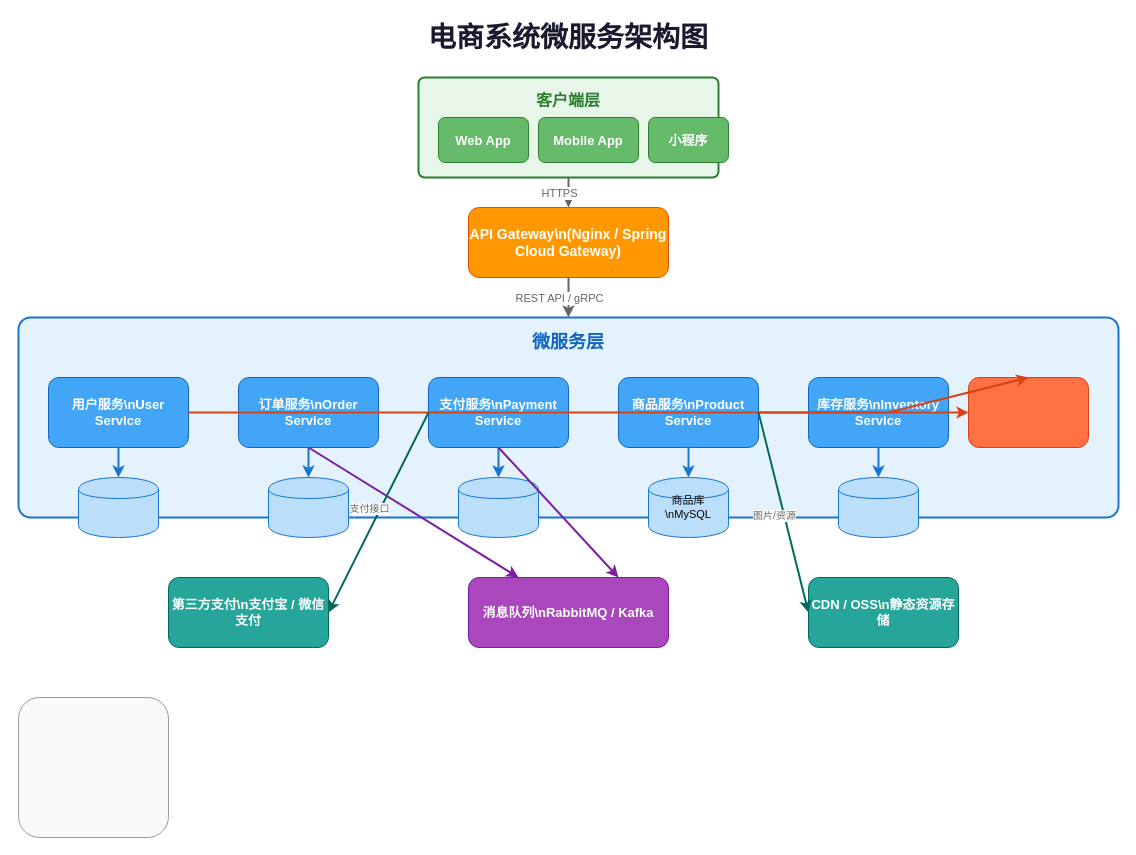
Some shapes in this 1136 by 855 pixel diagram are drawn without their labels. Here are the shapes that lost their labels. From the top down, the centre of each, then its label:
At (1028,412): "Redis Cluster\n缓存层".
At (118,507): "用户库\nMySQL".
At (308,507): "订单库\nMySQL".
At (498,507): "支付库\nMySQL".
At (878,507): "库存库\nMySQL".
At (93,767): "图例说明 🟢 客户端层 🟠 API网关 🔵 微服务 🔵 数据库 🟣 缓存层 🟣 消息队列 🟢 外部服务".
